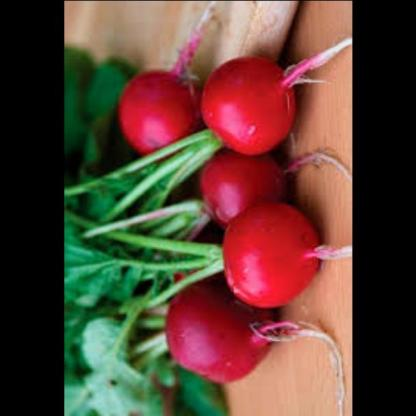rediska: (167, 270, 282, 384), (216, 197, 326, 311), (197, 48, 302, 154), (120, 53, 206, 159), (199, 139, 290, 230)
